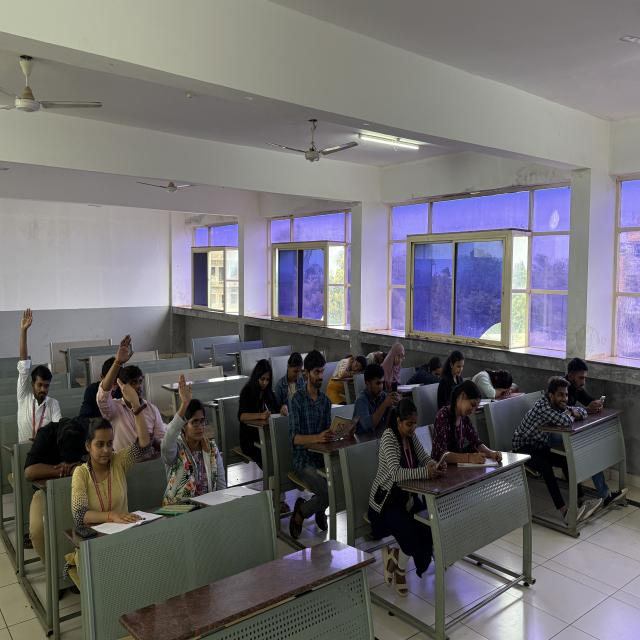Hand Rising: (76, 375, 162, 540), (96, 292, 170, 456), (164, 370, 245, 516), (4, 302, 76, 434)
Reading: (286, 346, 363, 514), (376, 334, 426, 394)
Sleeping: (468, 354, 529, 402), (407, 339, 446, 389)
Using Phone: (363, 395, 458, 578), (353, 359, 406, 434), (561, 352, 610, 423)
Writing: (436, 380, 504, 483), (232, 358, 287, 463)
